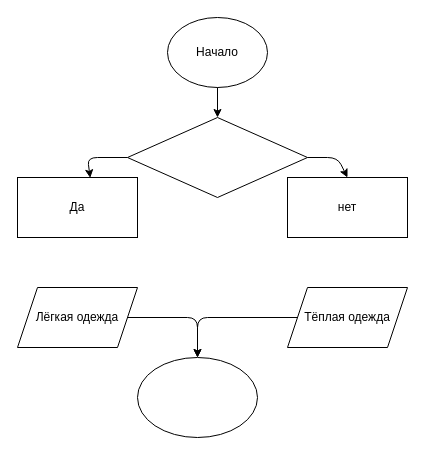
This 425x455 diagram has some shape labels left out. Each missing label, with the centre of its shape:
конец: the point at 197,397
Температура => 20 граудусов: the point at 217,157
